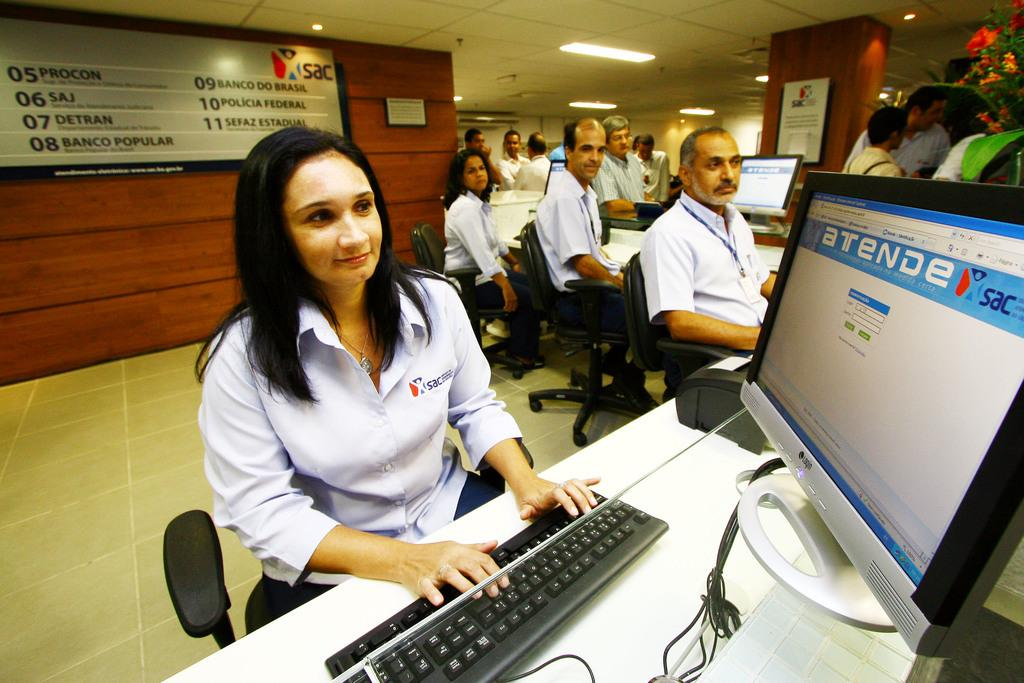Computer-keyboard: (323, 487, 669, 682)
Computer-monitor: (735, 183, 1023, 661), (726, 152, 806, 243), (536, 157, 570, 203)
